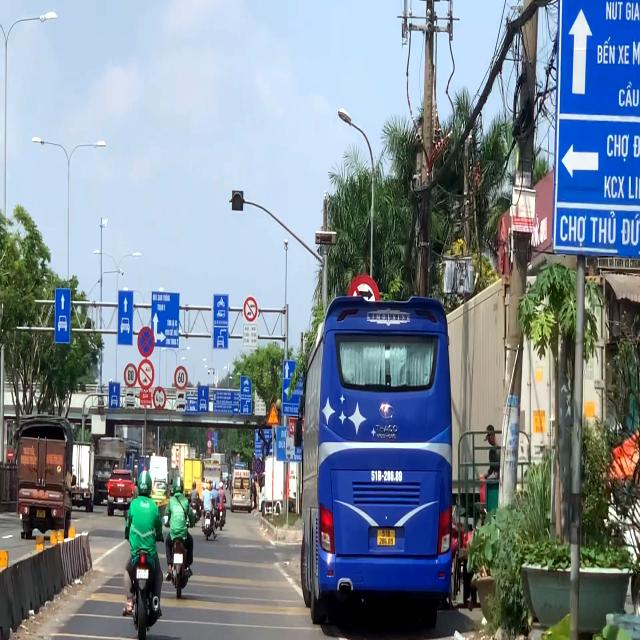P.117: (153, 386, 166, 411)
P.123b: (347, 275, 380, 334)
P.127: (124, 362, 138, 388), (174, 366, 188, 390)
P.130: (137, 327, 155, 358), (255, 458, 262, 474), (207, 430, 212, 439)
S.509a: (267, 403, 280, 425)
